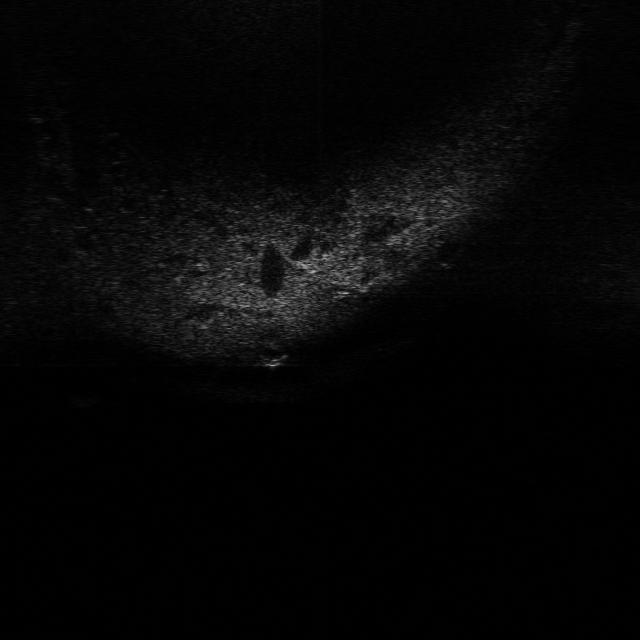ball: (253, 331, 294, 369)
cube: (63, 380, 107, 410)
